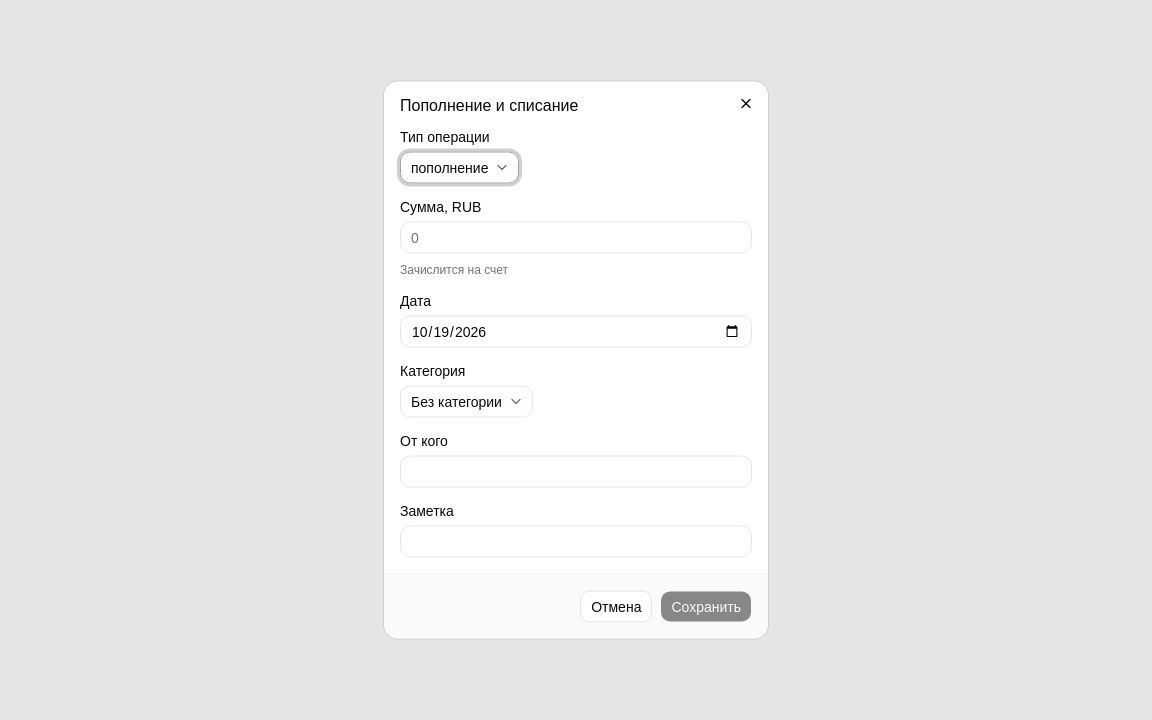
CashDialog: a sum too large to record › names the largest sum it would take, in the account's currency
The image size is (1152, 720).
Type "10000000000000,01" into the field labelled "Сумма, RUB". click: (576,238)
box: [400,222,752,254]
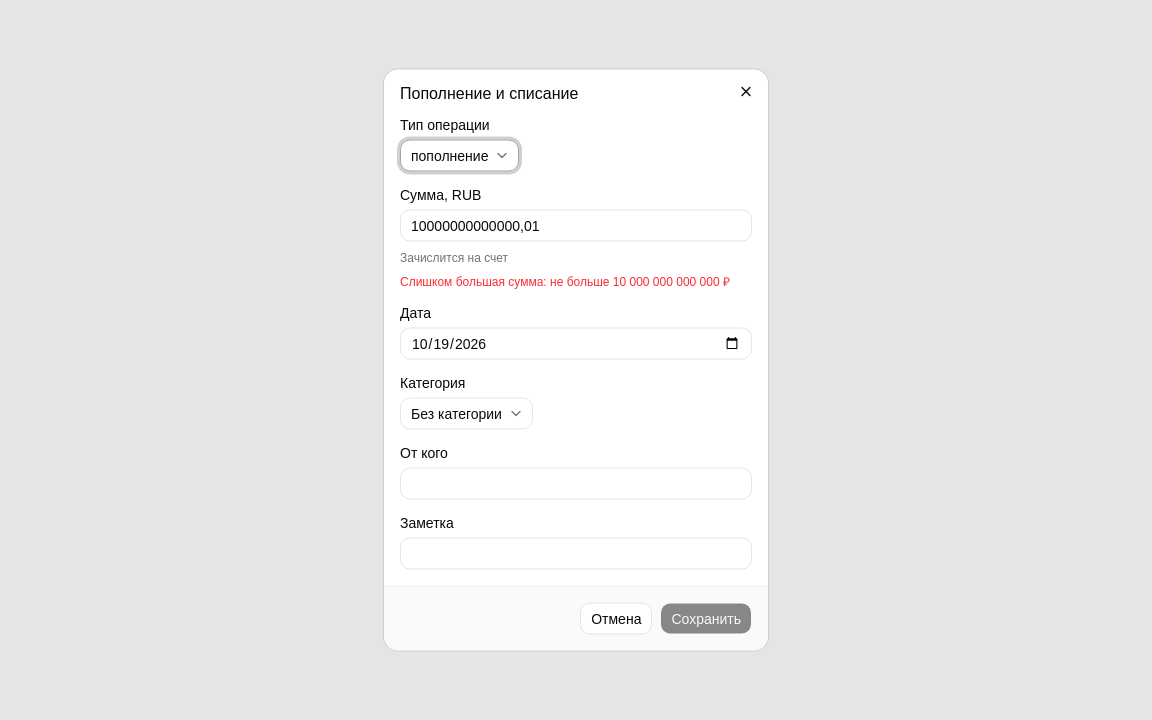
Check: the text "Слишком большая сумма: не больше 10 000 000 000 000 ₽" is shown, box [400,274,752,290]
